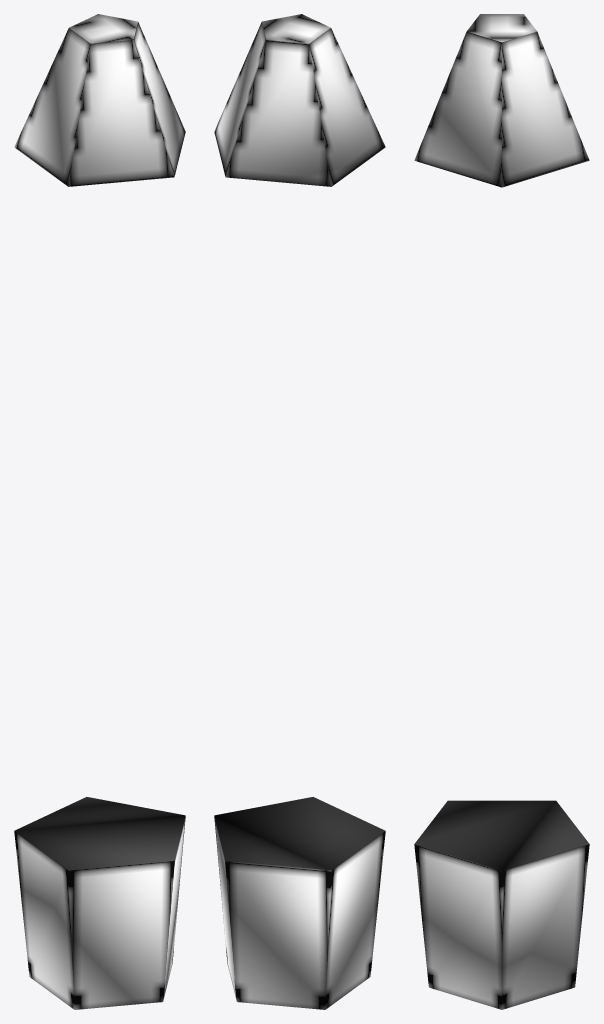
The model's file is raketel2.obj.
3 views of the same model, side by side, from view 1: azimuth 30°, elevation 25°; view 2: azimuth 150°, elevation 25°; view 3: azimuth 270°, elevation 25° (orthographic).
Visible parts, largest first — view 1: cube1_sep91, cube1_sep98; view 2: cube1_sep91, cube1_sep98; view 3: cube1_sep91, cube1_sep98.
Boxes of the visible parts, box(x1,y1,x2,y2) form: cube1_sep91: box(14, 797, 185, 1009); cube1_sep98: box(14, 14, 185, 186); cube1_sep91: box(214, 797, 385, 1009); cube1_sep98: box(214, 14, 385, 186); cube1_sep91: box(414, 800, 589, 1009); cube1_sep98: box(414, 14, 589, 187).
Size of the model in its own units: 0.5581 by 3.51 by 0.5869.
Materials: 1 (1 with a texture image).
